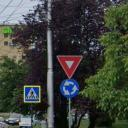preferencia: (55, 54, 84, 78)
